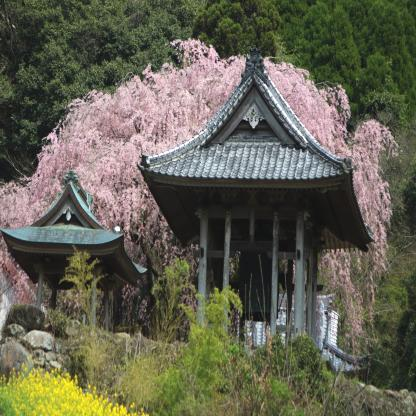ShidareZakura: (0, 37, 404, 366)
